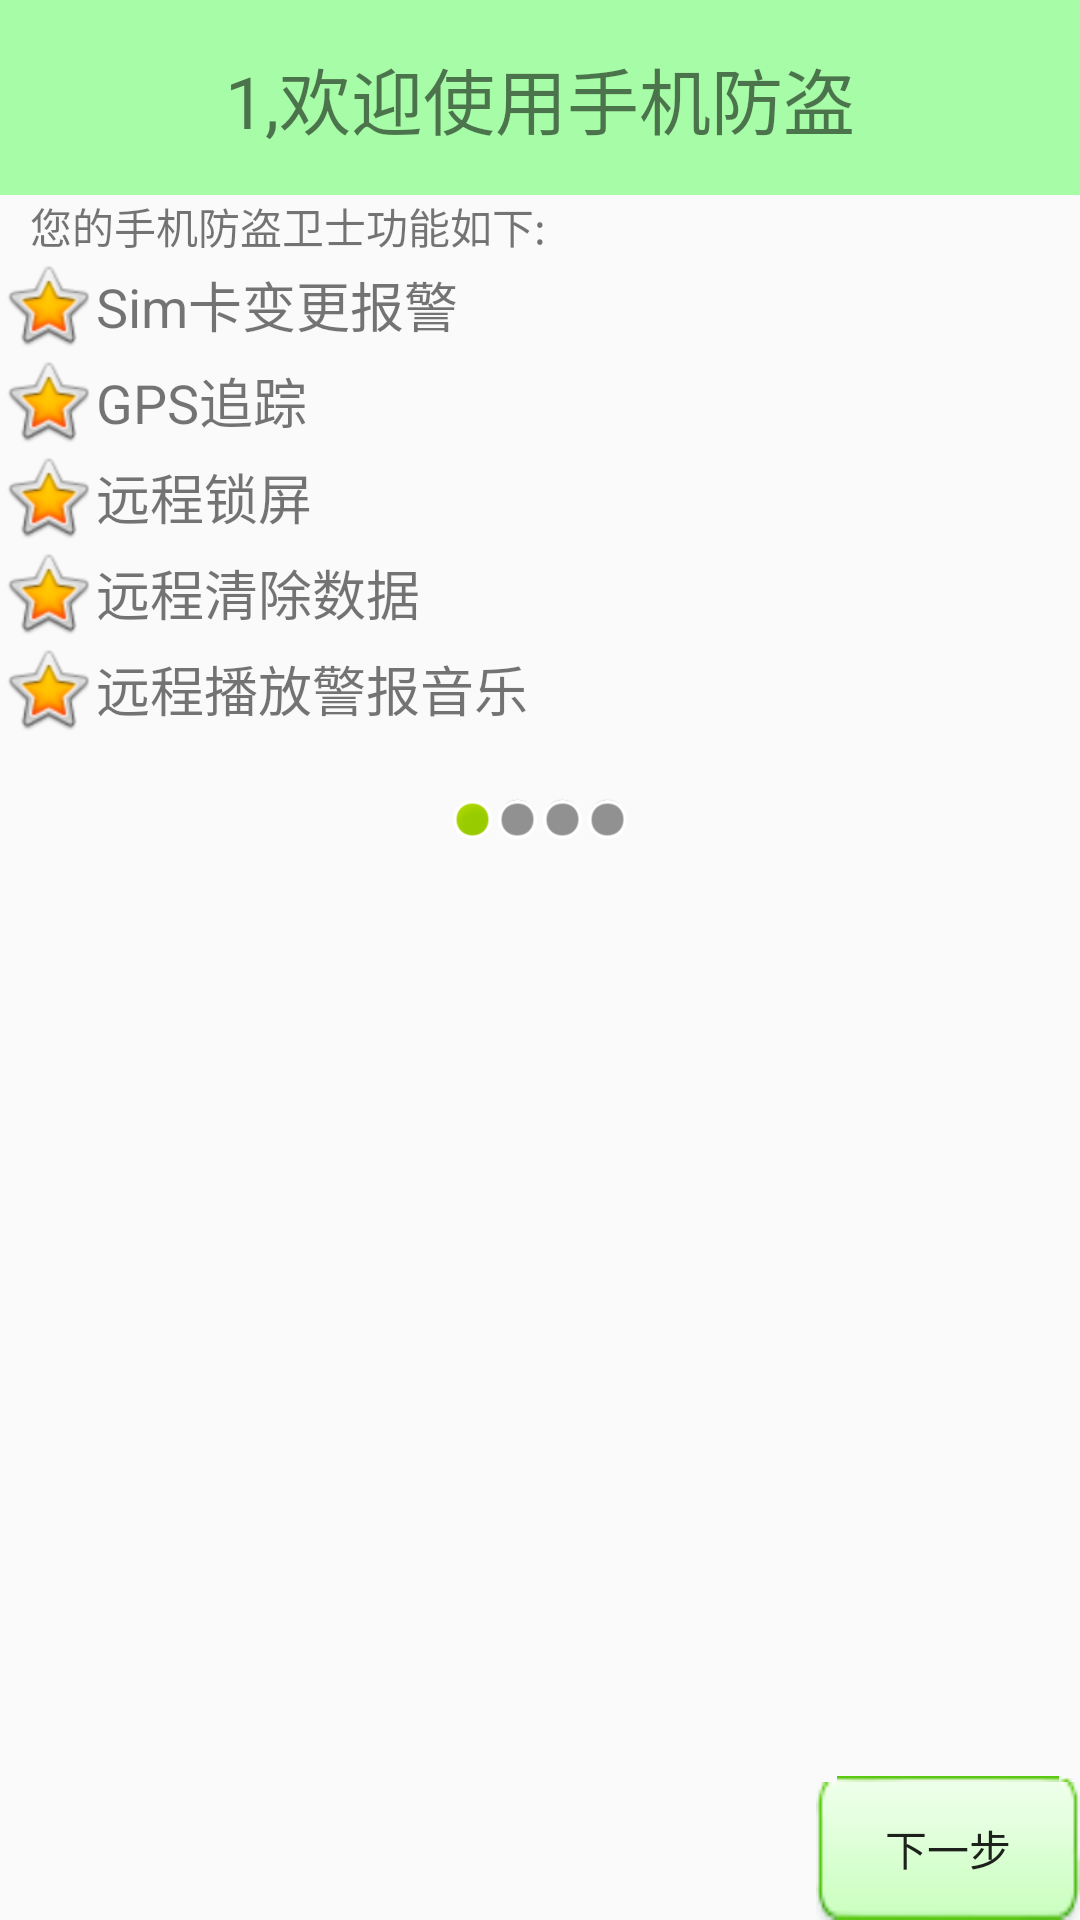

Screen size 1080px×1920px. Icon name, then its center in pixels as (x=x, y=y):
presence invisible: (x=517, y=819), (x=562, y=819), (x=607, y=819)
presence online: (x=472, y=819)
